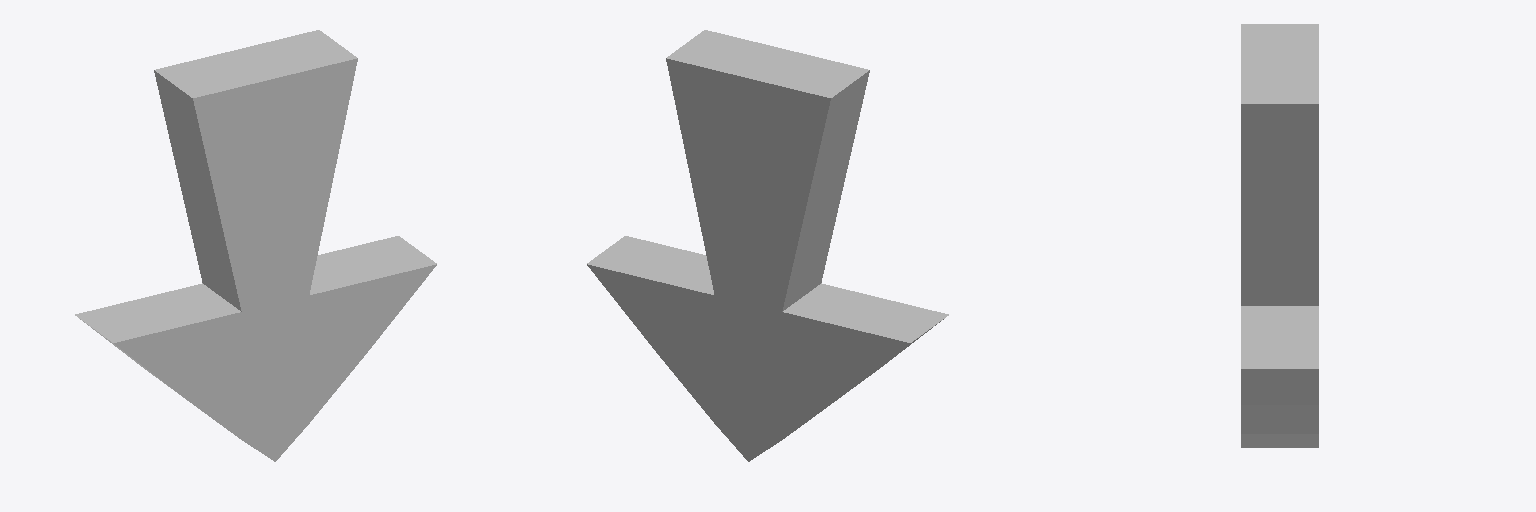
The model's file is arrowv1.obj.
The picture shows the model from 3 angles: view 1: azimuth 30°, elevation 25°; view 2: azimuth 150°, elevation 25°; view 3: azimuth 270°, elevation 25°; orthographic projection.
Visible parts, largest first — view 1: Cube_Cube.001; view 2: Cube_Cube.001; view 3: Cube_Cube.001.
Part boxes in pixels (left/top/right/bottom): Cube_Cube.001: left=75, top=30, right=436, bottom=461; Cube_Cube.001: left=587, top=30, right=948, bottom=461; Cube_Cube.001: left=1241, top=24, right=1318, bottom=447.
Size of the model in its own units: 5.76 by 6.51 by 1.2.